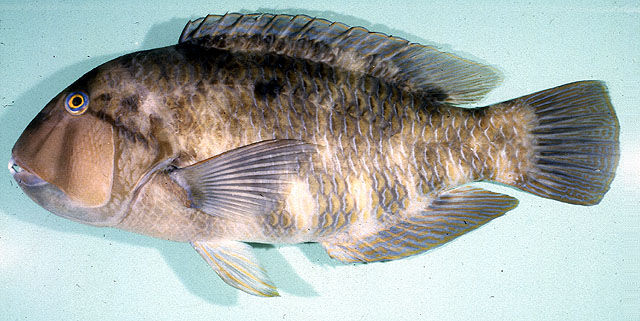fish: (10, 14, 620, 297)
